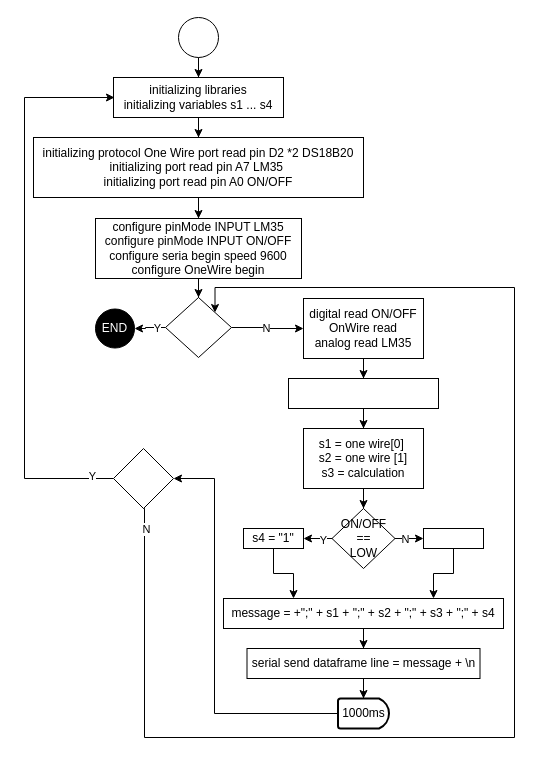
The diagram is 540 pixels wide and 763 high, and some of its shapes have lost their labels. The centre of each missing label's shape, as x and y in pixels:
btn reset?: pixel 143 478
INIT: pixel 198 37
Interrupt ?: pixel 198 327
reading calculation LM35: pixel 363 393
s4 = "0": pixel 453 538
